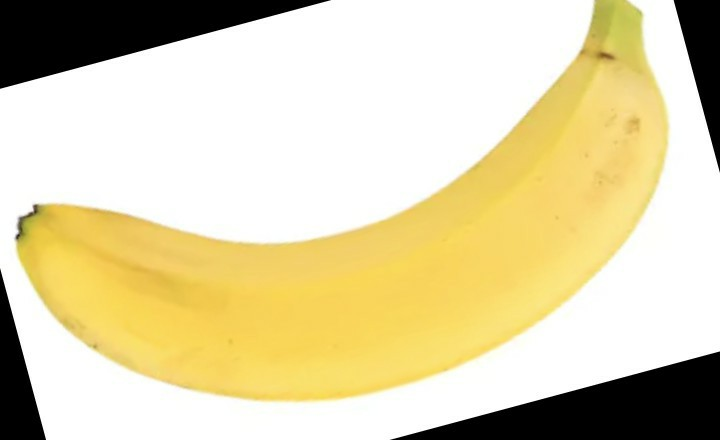fresh_banana: (18, 7, 676, 400)
